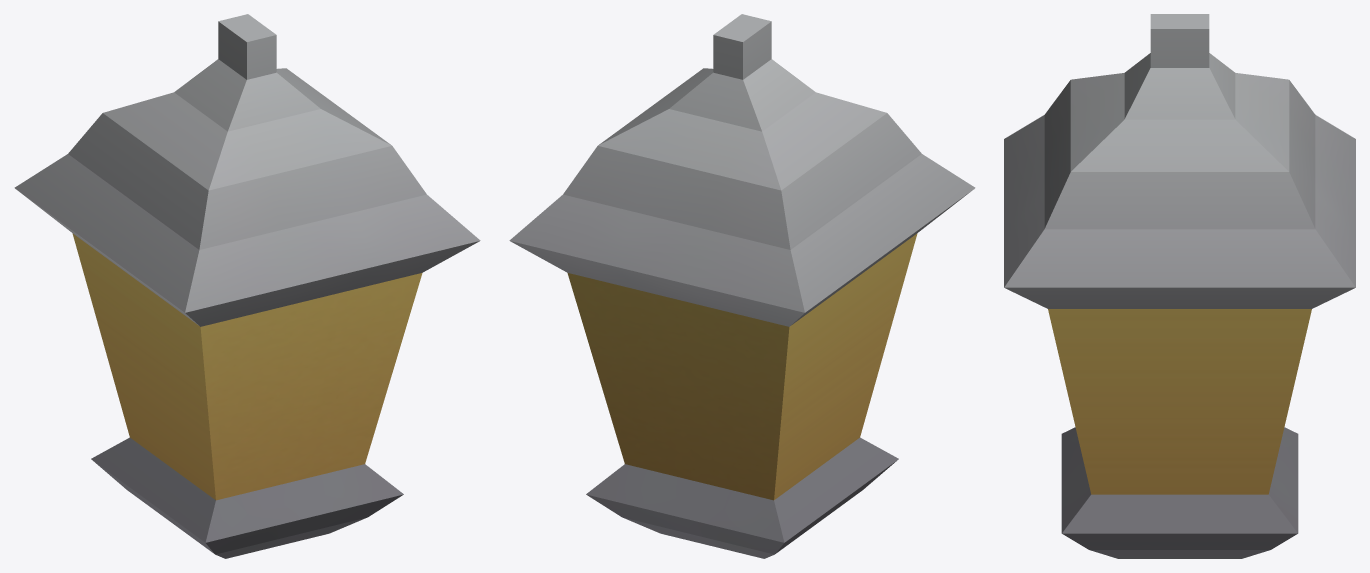
Rendered from Lamp_Snow.obj.
3 views of the same model, side by side, from view 1: azimuth 30°, elevation 25°; view 2: azimuth 150°, elevation 25°; view 3: azimuth 270°, elevation 25° (orthographic). The views are drawn at different scales.
Parts seen in each view (by area): view 1: Lamp_Snow; view 2: Lamp_Snow; view 3: Lamp_Snow.
Part boxes in pixels (x1,y1,x2,y2): Lamp_Snow: (14, 14, 480, 558); Lamp_Snow: (509, 14, 975, 558); Lamp_Snow: (1004, 14, 1355, 558).
Bounding box in the file's own units: 0.2695 × 0.4322 × 0.2695.
